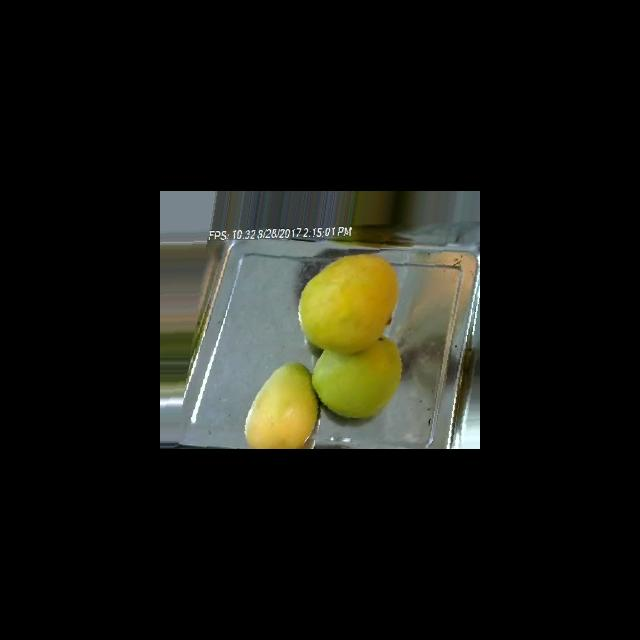Mango: (297, 253, 398, 354), (311, 336, 402, 418), (243, 361, 319, 448)
